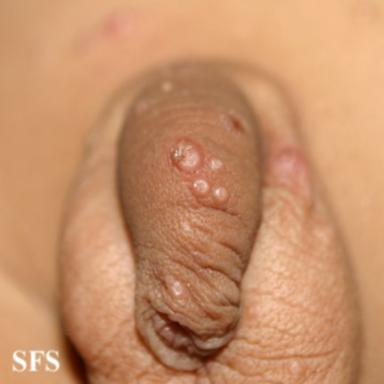Molluscum-Contagiosum: (171, 141, 202, 172), (193, 179, 229, 205), (287, 359, 305, 376), (171, 281, 183, 296), (211, 159, 223, 171), (181, 220, 191, 232)
